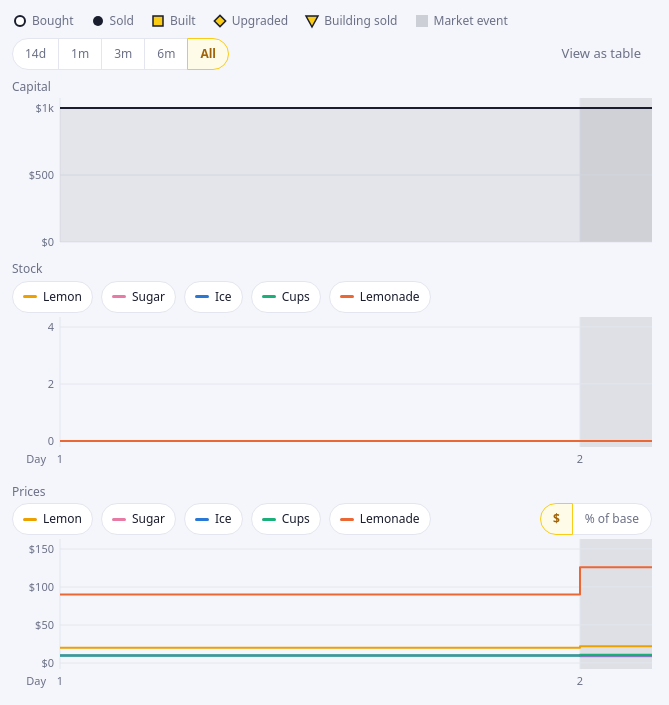
Test: TimelineChartsComponent › price chart › has a table twin with every day
The width and height of the screenshot is (669, 705).
Click the button with class "table-toggle". click: (601, 54)
box: 551,38 -> 652,70
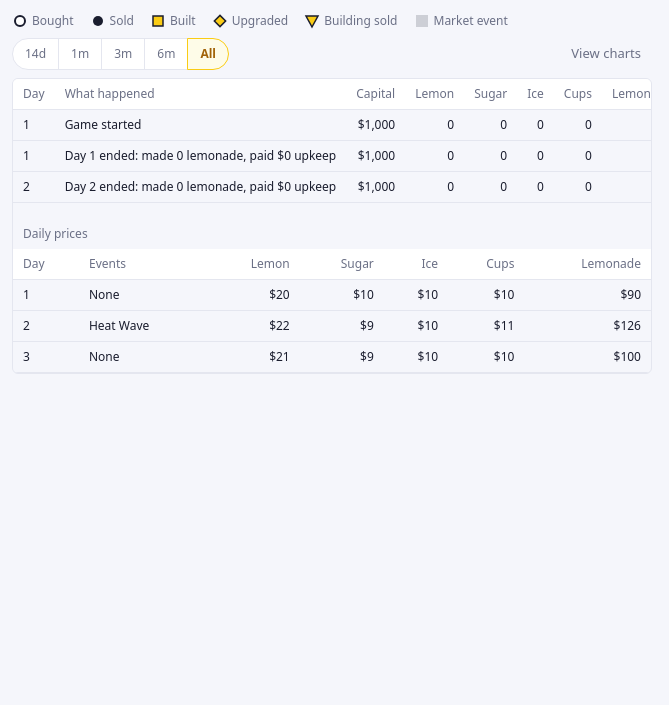
Expected: the row "2 Heat Wave $22 $9 $10 $11 $126" is shown, 13,310 -> 651,342
